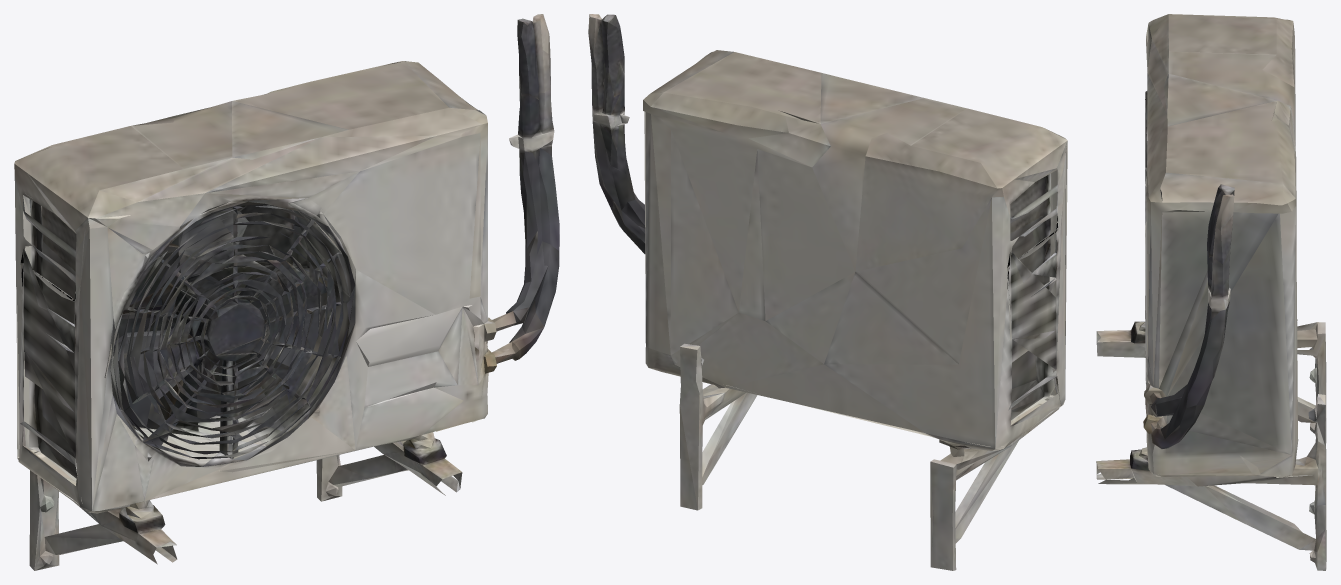
The model's file is w3aircon.glb.
3 renders of one model, left to right at view 1: azimuth 30°, elevation 25°; view 2: azimuth 150°, elevation 25°; view 3: azimuth 270°, elevation 25°, orthographic. The views are drawn at different scales.
Parts seen in each view (by area): view 1: output_unwrapped; view 2: output_unwrapped; view 3: output_unwrapped.
Part boxes in pixels (x1,y1,x2,y2): output_unwrapped: (14,14,559,570); output_unwrapped: (588,14,1067,570); output_unwrapped: (1096,14,1326,570).
Size of the model in its own units: 0.95 by 0.8723 by 0.4085.
Materials: 1 (1 with a texture image).
